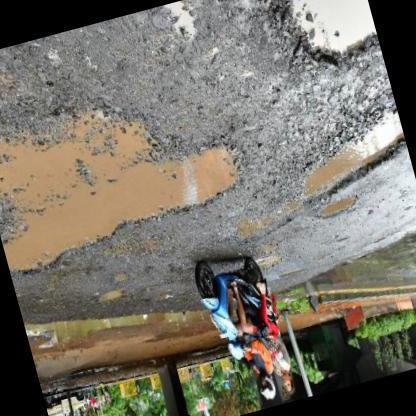pothole: (0, 109, 247, 276), (298, 104, 410, 199), (263, 0, 386, 68), (235, 200, 312, 245), (163, 2, 205, 40), (316, 192, 364, 219), (258, 250, 284, 271), (96, 288, 126, 304)
